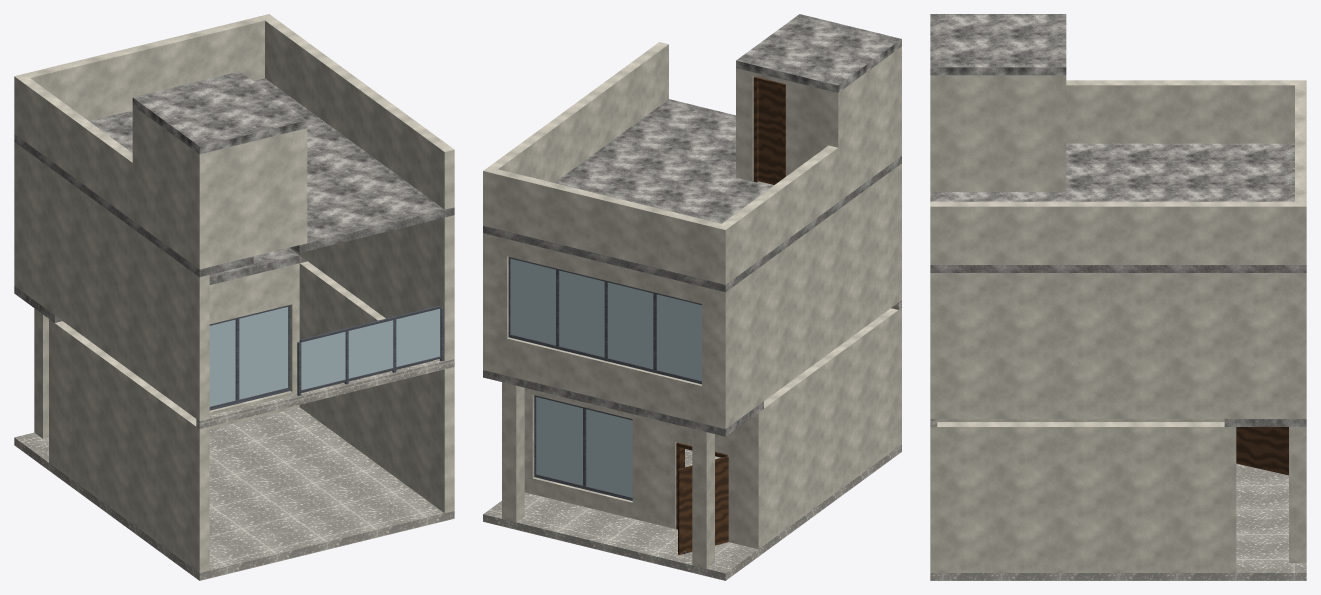
File: rowhouse_front.fbx
The picture shows the model from 3 angles, left to right: view 1: azimuth 30°, elevation 25°; view 2: azimuth 150°, elevation 25°; view 3: azimuth 270°, elevation 25°; orthographic projection. The views are drawn at different scales.
Visible parts, largest first — view 1: rowhouse_front; view 2: rowhouse_front; view 3: rowhouse_front.
Part boxes in pixels (x1,y1,x2,y2): rowhouse_front: (14,14,454,580); rowhouse_front: (483,14,901,580); rowhouse_front: (930,14,1306,580).
Bounding box in the file's own units: 510 × 830 × 642.
